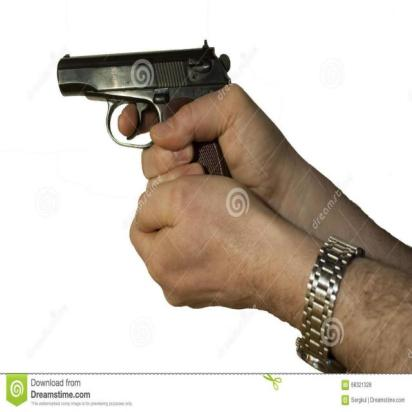Gun: (54, 32, 246, 310)
